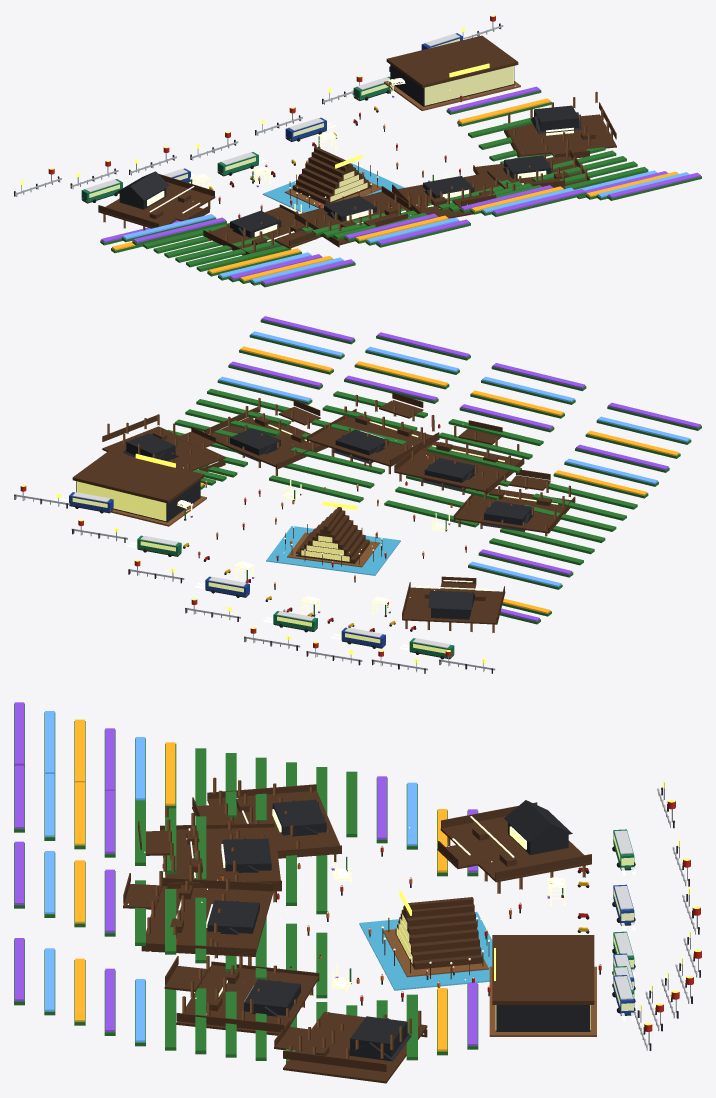
The model's file is ul_w7_01_ta_nung_thuy_thuan_roastery_cafe_and_flower_valley.glb.
3 renders of one model, top to bottom at view 1: azimuth 30°, elevation 25°; view 2: azimuth 150°, elevation 25°; view 3: azimuth 270°, elevation 25°, orthographic. The views are drawn at different scales.
Visible parts, largest first — view 1: ul_w7_01_cedar_dark_wood, ul_w7_01_foliage_green, ul_w7_01_dark_iron_frame, ul_w7_01_lavender_purple, ul_w7_01_pine_deck_wood, ul_w7_01_hydrangea_blue, ul_w7_01_warm_cafe_window, ul_w7_01_marigold_gold, ul_w7_01_warm_string_bulb, ul_w7_01_bus_emerald, ul_w7_01_galvanized_steel, ul_w7_01_truck_box_white (+3 smaller); view 2: ul_w7_01_cedar_dark_wood, ul_w7_01_foliage_green, ul_w7_01_dark_iron_frame, ul_w7_01_lavender_purple, ul_w7_01_pine_deck_wood, ul_w7_01_hydrangea_blue, ul_w7_01_warm_cafe_window, ul_w7_01_marigold_gold, ul_w7_01_mirror_pond_cyan, ul_w7_01_warm_string_bulb, ul_w7_01_galvanized_steel, ul_w7_01_bus_royal_blue (+4 smaller); view 3: ul_w7_01_cedar_dark_wood, ul_w7_01_foliage_green, ul_w7_01_dark_iron_frame, ul_w7_01_lavender_purple, ul_w7_01_pine_deck_wood, ul_w7_01_hydrangea_blue, ul_w7_01_marigold_gold, ul_w7_01_mirror_pond_cyan, ul_w7_01_warm_string_bulb, ul_w7_01_truck_box_white, ul_w7_01_galvanized_steel, ul_w7_01_warm_cafe_window (+3 smaller).
Part boxes in pixels (box(x1,y1,x2,y2)): ul_w7_01_cedar_dark_wood: box(98, 35, 616, 255); ul_w7_01_foliage_green: box(100, 81, 701, 287); ul_w7_01_dark_iron_frame: box(14, 23, 581, 237); ul_w7_01_lavender_purple: box(101, 86, 700, 284); ul_w7_01_pine_deck_wood: box(103, 81, 612, 252); ul_w7_01_hydrangea_blue: box(122, 170, 689, 282); ul_w7_01_warm_cafe_window: box(89, 38, 513, 201); ul_w7_01_marigold_gold: box(112, 98, 678, 281); ul_w7_01_warm_string_bulb: box(147, 78, 573, 241); ul_w7_01_bus_emerald: box(81, 76, 392, 202); ul_w7_01_galvanized_steel: box(14, 16, 503, 196); ul_w7_01_truck_box_white: box(84, 33, 461, 214); ul_w7_01_cedar_dark_wood: box(72, 392, 575, 624); ul_w7_01_foliage_green: box(167, 319, 701, 624); ul_w7_01_dark_iron_frame: box(14, 424, 532, 673); ul_w7_01_lavender_purple: box(190, 316, 700, 621); ul_w7_01_pine_deck_wood: box(107, 394, 570, 632); ul_w7_01_hydrangea_blue: box(218, 331, 690, 586); ul_w7_01_warm_cafe_window: box(72, 481, 446, 653); ul_w7_01_marigold_gold: box(200, 346, 679, 613); ul_w7_01_mirror_pond_cyan: box(266, 526, 400, 575); ul_w7_01_warm_string_bulb: box(136, 400, 558, 633); ul_w7_01_galvanized_steel: box(14, 491, 495, 672); ul_w7_01_bus_royal_blue: box(69, 492, 385, 647); ul_w7_01_cedar_dark_wood: box(123, 784, 594, 1083); ul_w7_01_foliage_green: box(14, 703, 563, 1063); ul_w7_01_dark_iron_frame: box(176, 787, 700, 1061); ul_w7_01_lavender_purple: box(14, 702, 549, 1045); ul_w7_01_pine_deck_wood: box(147, 777, 596, 1060); ul_w7_01_hydrangea_blue: box(45, 711, 417, 1042); ul_w7_01_marigold_gold: box(75, 719, 447, 1051); ul_w7_01_mirror_pond_cyan: box(359, 912, 492, 990); ul_w7_01_warm_string_bulb: box(127, 798, 663, 1034); ul_w7_01_truck_box_white: box(307, 830, 633, 999); ul_w7_01_galvanized_steel: box(634, 782, 698, 1050); ul_w7_01_warm_cafe_window: box(396, 833, 633, 1029).
Bounding box in the file's own units: 119 × 24.5 × 102.
